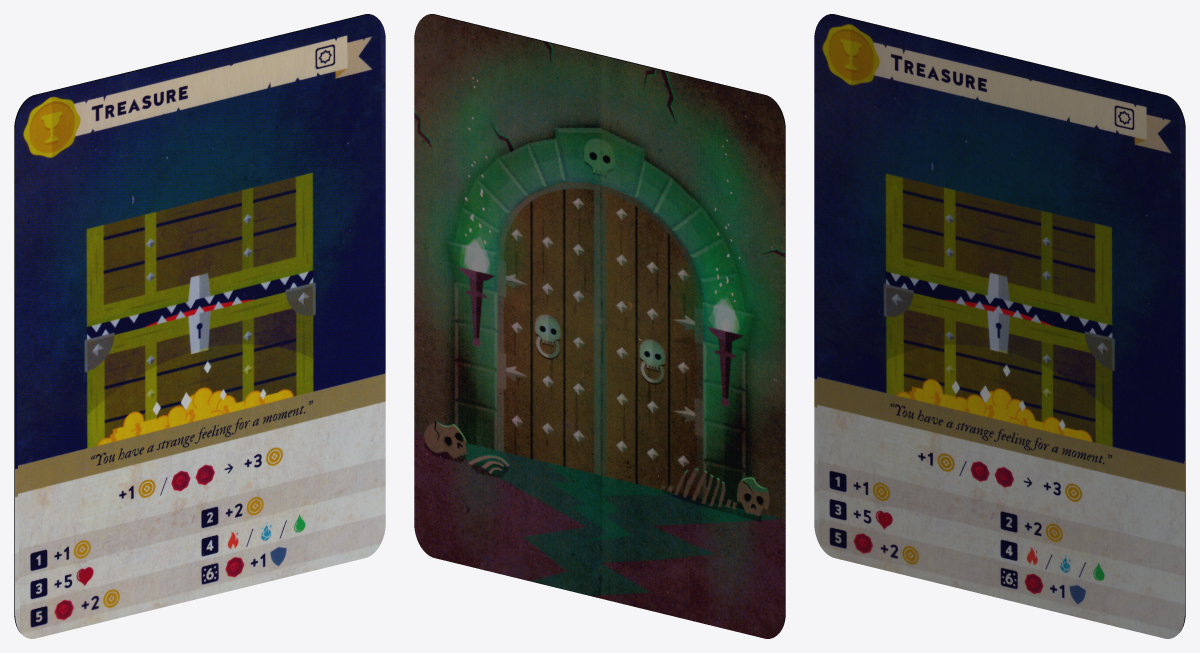
Rendered from Treasure_Mimic.fbx.
The picture shows the model from 3 angles, left to right: view 1: azimuth 30°, elevation 25°; view 2: azimuth 150°, elevation 25°; view 3: azimuth 330°, elevation 25°; orthographic projection.
Visible parts, largest first — view 1: Cube; view 2: Cube; view 3: Cube.
Part boxes in pixels (x1,y1,x2,y2): Cube: [14, 14, 385, 638]; Cube: [414, 14, 785, 638]; Cube: [814, 14, 1185, 638].
Bounding box in the file's own units: 500 × 700 × 2.
